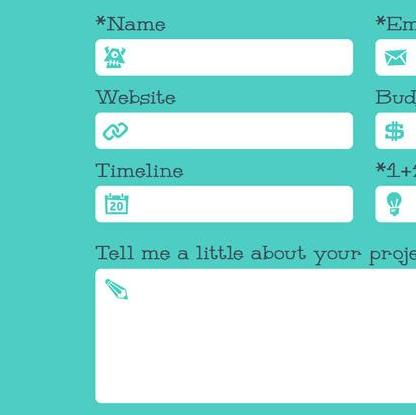field: (95, 35, 354, 77), (95, 182, 354, 223), (95, 109, 354, 150)
field_with_label: (92, 88, 356, 153), (93, 15, 356, 79), (92, 163, 356, 225)
